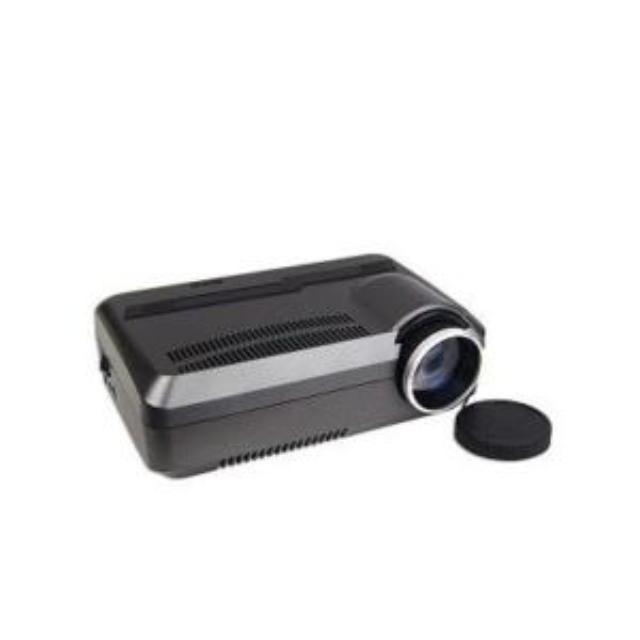Projector: (86, 245, 487, 479)
